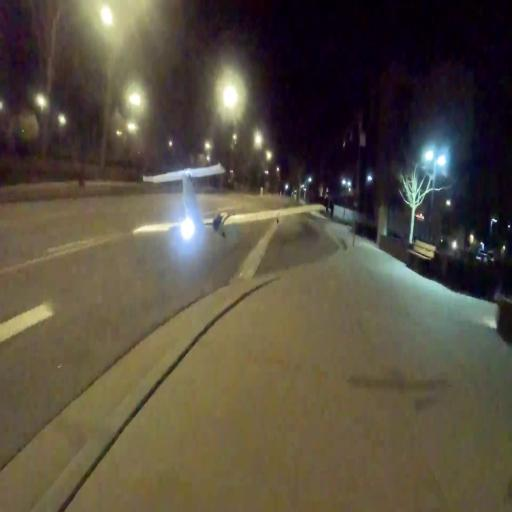uav: (128, 156, 326, 258)
